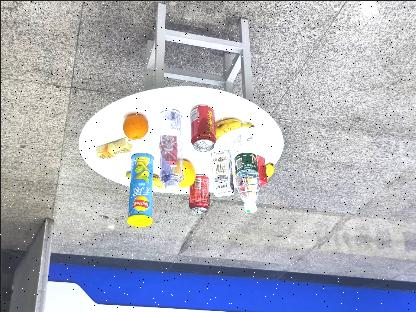Can: (188, 100, 214, 152), (188, 176, 207, 212)
Others: (128, 153, 154, 227), (207, 145, 231, 195)
Plastic Bottle: (154, 102, 182, 190), (230, 134, 260, 216)
